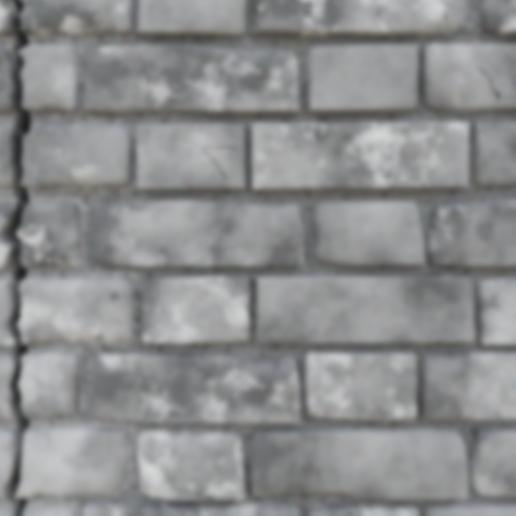brick: (251, 427, 466, 498), (256, 275, 473, 342), (87, 353, 298, 421), (84, 45, 297, 112), (251, 123, 467, 187), (91, 201, 302, 264), (305, 351, 414, 419), (137, 430, 244, 499), (256, 0, 465, 35), (307, 45, 417, 110), (142, 275, 248, 342), (312, 201, 422, 263), (137, 124, 243, 188), (419, 351, 515, 418), (420, 44, 515, 110), (428, 201, 515, 264), (139, 0, 244, 35), (84, 501, 298, 515), (472, 428, 515, 496), (475, 277, 515, 343), (472, 123, 515, 184), (308, 503, 417, 515), (479, 0, 515, 34), (424, 502, 515, 515)
broken_brick: (18, 426, 128, 498), (19, 275, 132, 344), (22, 121, 132, 187), (18, 201, 81, 266), (20, 351, 79, 419), (21, 0, 132, 36), (21, 44, 79, 111), (0, 201, 16, 267), (0, 45, 14, 114), (0, 352, 14, 420), (0, 427, 13, 499), (0, 278, 13, 345), (0, 123, 13, 187), (23, 505, 76, 515), (0, 0, 12, 36), (0, 505, 11, 515)
crack: (2, 0, 32, 515), (139, 363, 155, 421)
